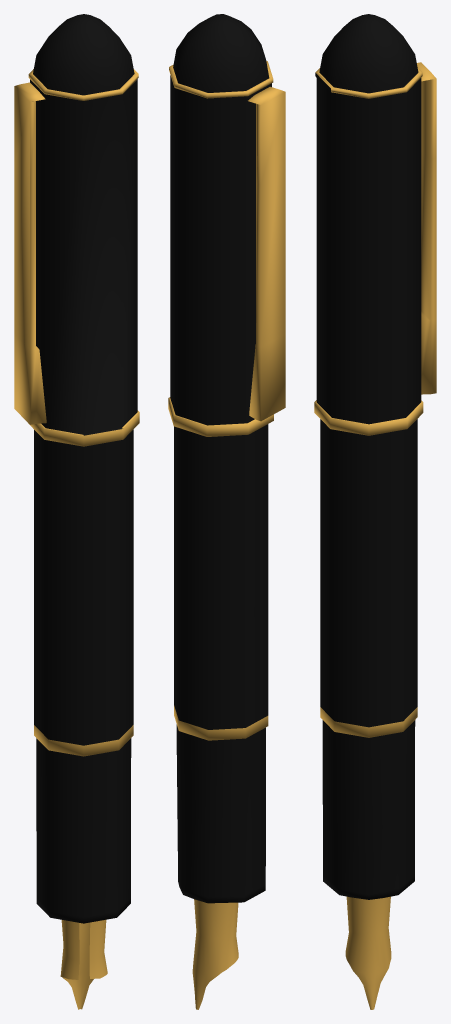
The model's file is pen.fbx.
The picture shows the model from 3 angles, left to right: view 1: azimuth 90°, elevation 25°; view 2: azimuth 210°, elevation 25°; view 3: azimuth 270°, elevation 25°; orthographic projection. The views are drawn at different scales.
Parts seen in each view (by area): view 1: Cube; view 2: Cube; view 3: Cube.
Boxes of the visible parts, <box> form: Cube: <box>14,14,139,1009</box>; Cube: <box>168,14,285,1009</box>; Cube: <box>314,14,436,1009</box>.
Size of the model in its own units: 10.47 by 104 by 11.73.
